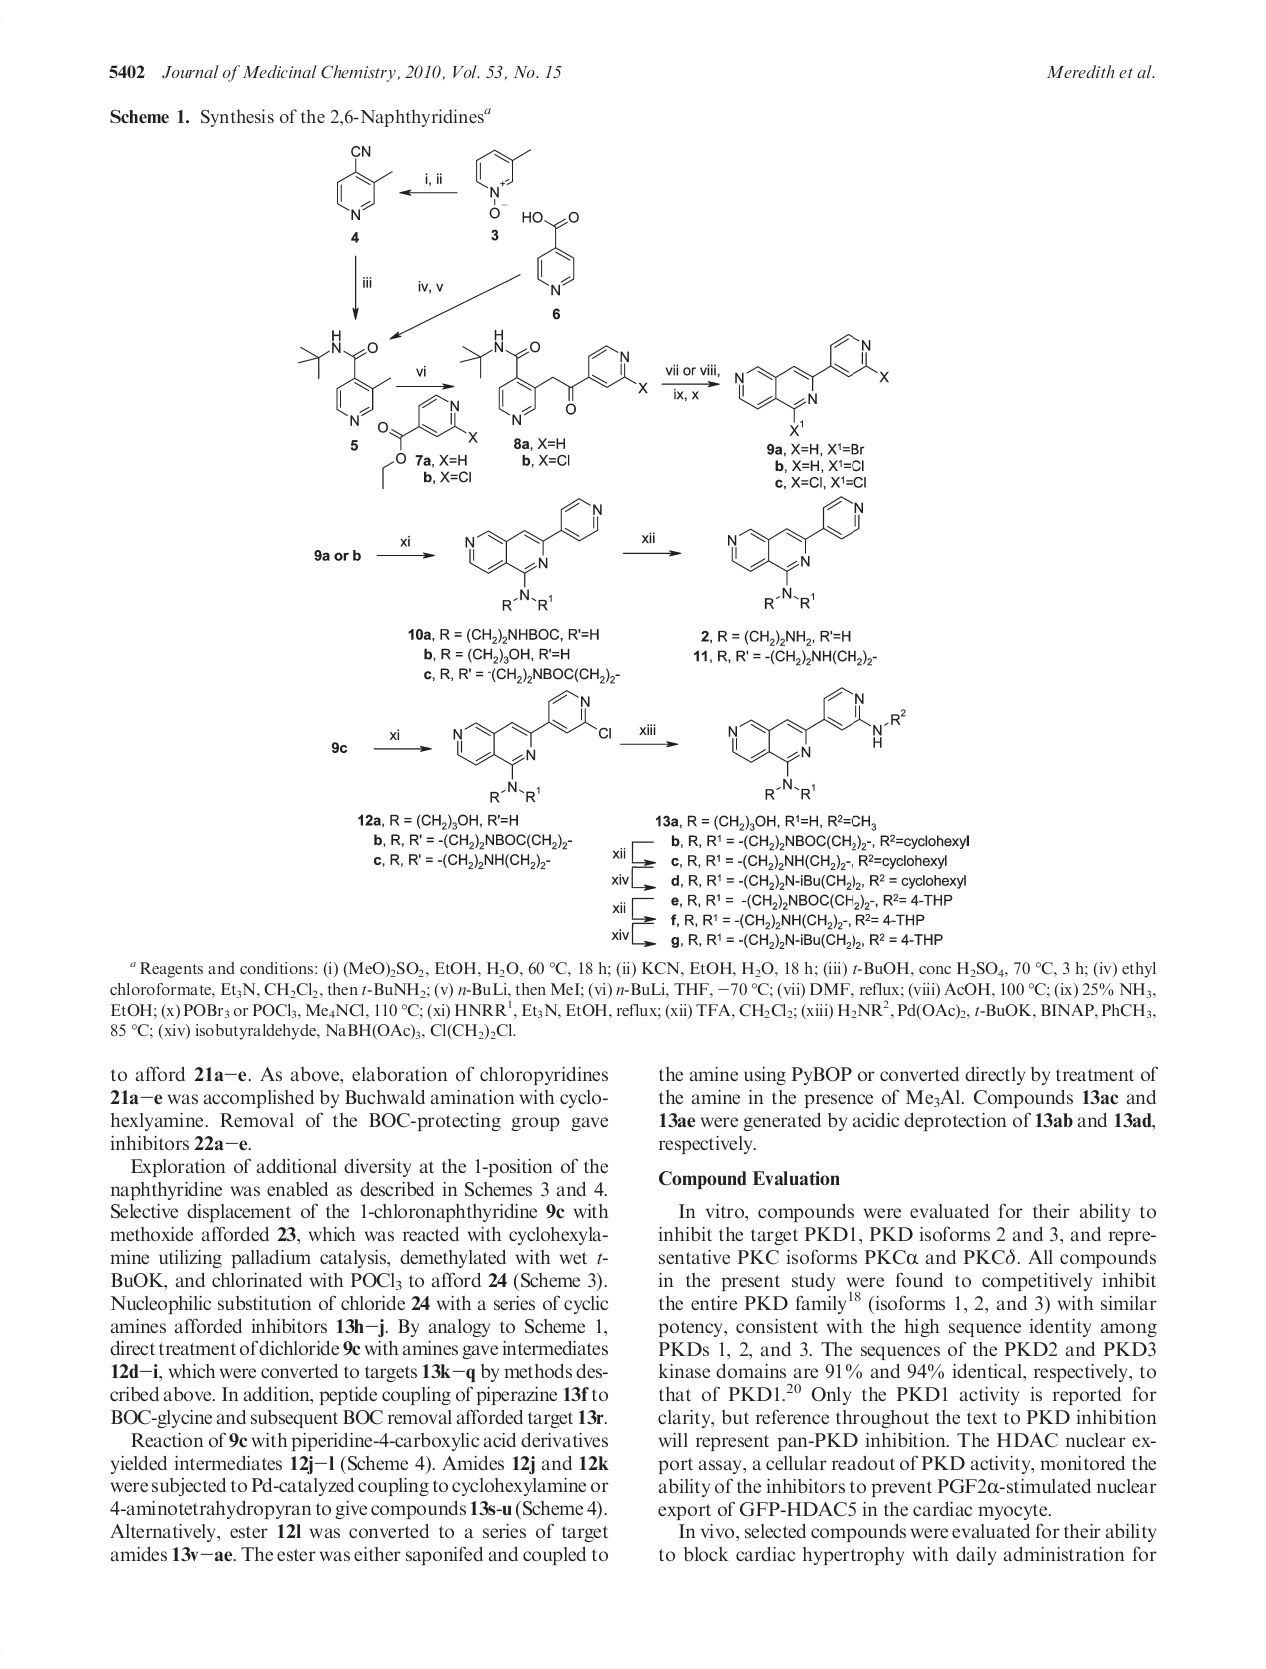exist_molecular: (723, 681, 906, 805), (448, 684, 614, 802), (729, 330, 898, 442), (455, 489, 606, 613), (459, 326, 648, 424), (725, 485, 867, 614), (382, 392, 485, 493), (295, 324, 395, 426), (516, 203, 604, 298), (332, 134, 399, 227), (469, 140, 540, 221)
